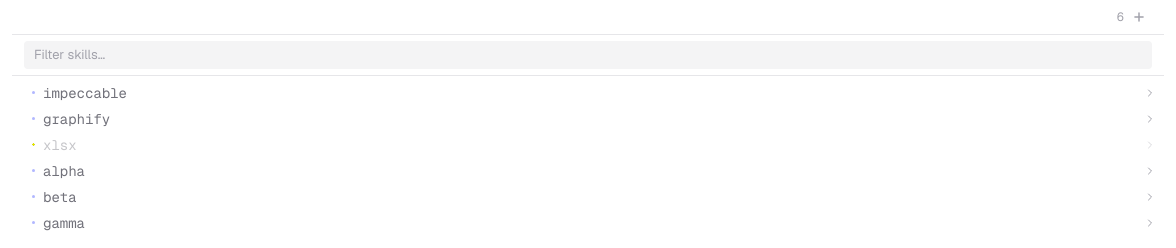
Test: SkillsListPanel › search filters skill list
Type "imp" into the field with placeholder "Filter skills…" at point(588, 55), box left=24, top=41, right=1152, bottom=68
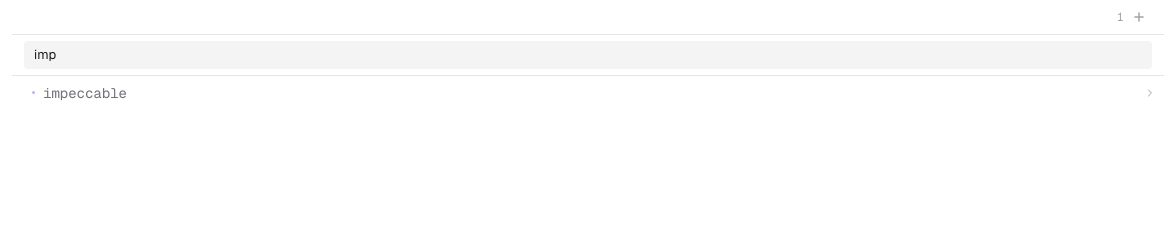
Expected: the text "impeccable" is shown, left=43, top=84, right=127, bottom=102
Expected: the button "graphify" is gone
